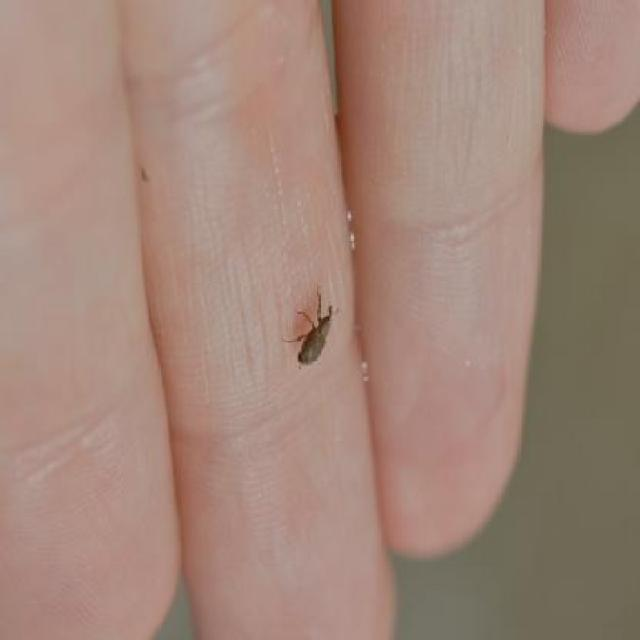rice-bug: (292, 294, 336, 371)
